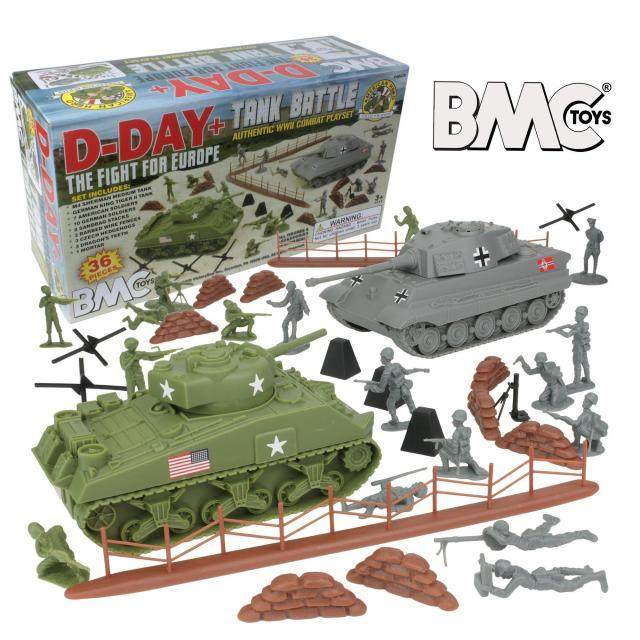MIL_MBT: (52, 338, 376, 531), (326, 214, 572, 330)
